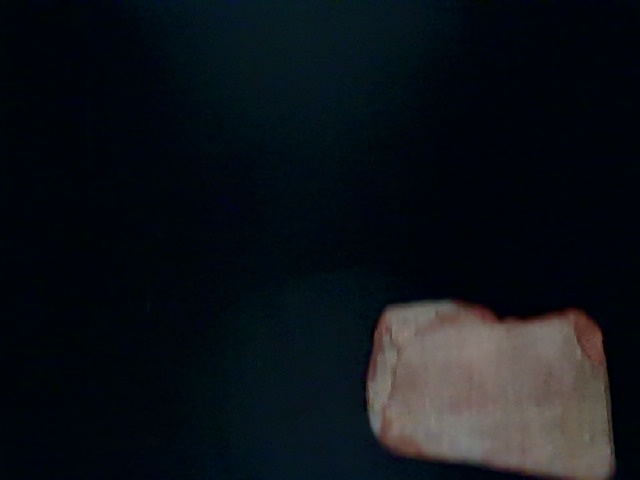KHSLJ: (267, 283, 517, 480)
